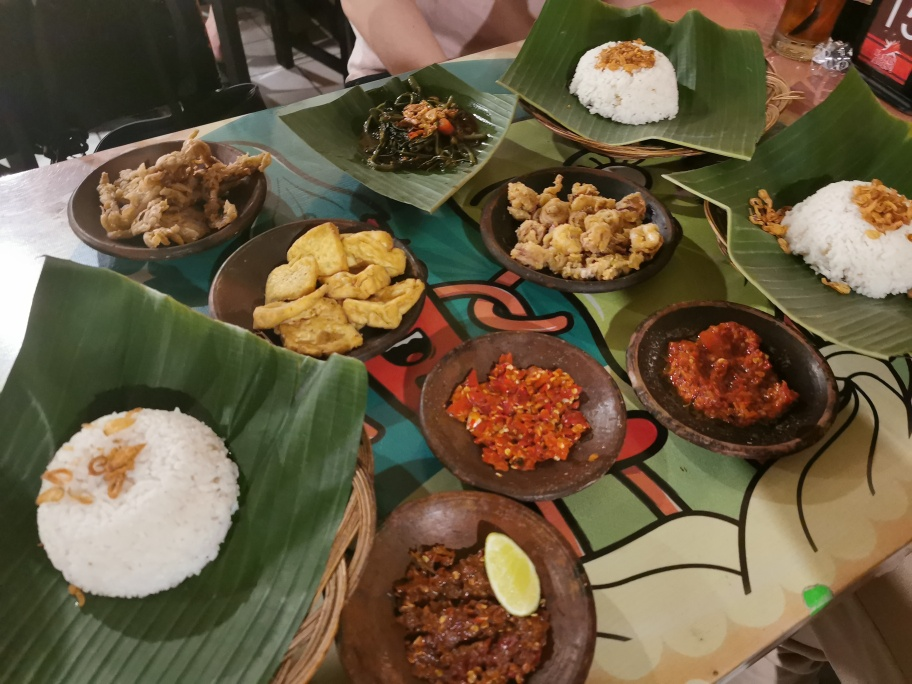nasi putih: (45, 403, 239, 593), (568, 35, 681, 126)
